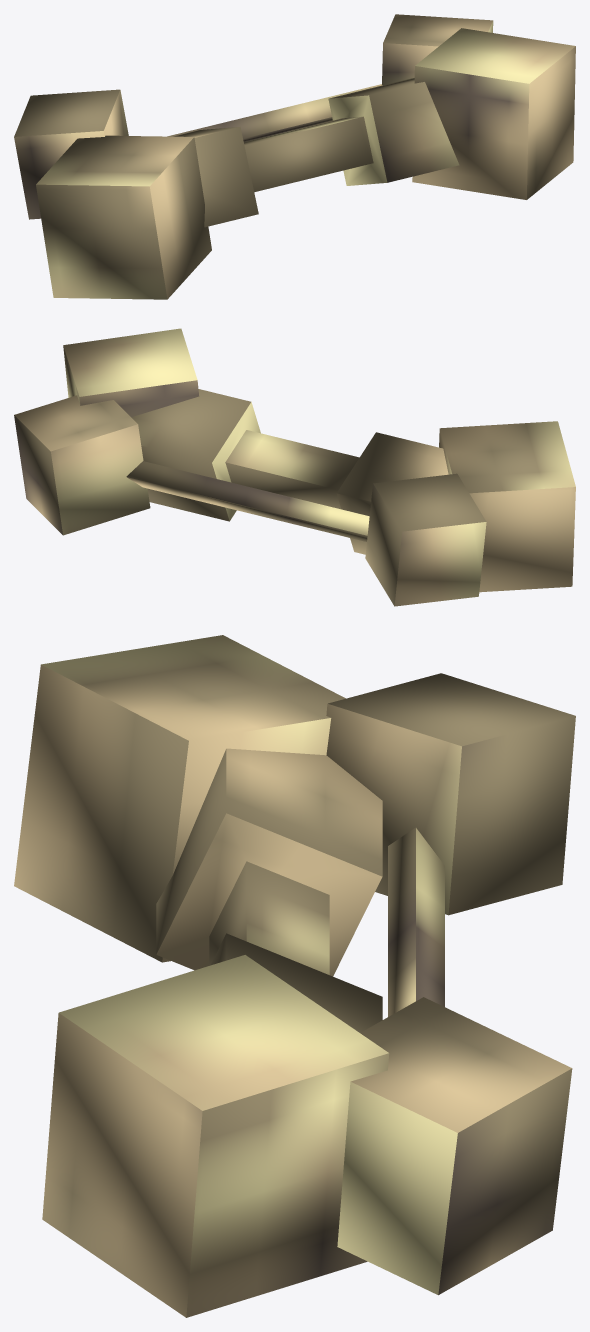
Rendered from Bone.fbx.
The picture shows the model from 3 angles, top to bottom: view 1: azimuth 30°, elevation 25°; view 2: azimuth 150°, elevation 25°; view 3: azimuth 270°, elevation 25°; orthographic projection. The views are drawn at different scales.
Visible parts, largest first — view 1: Cube.036; view 2: Cube.036; view 3: Cube.036.
Part boxes in pixels (x1,y1,x2,y2): Cube.036: (14, 14, 575, 299); Cube.036: (14, 328, 575, 606); Cube.036: (14, 635, 575, 1317).
Bounding box in the file's own units: 235 × 55.84 × 112.
1 material, 1 textured.
